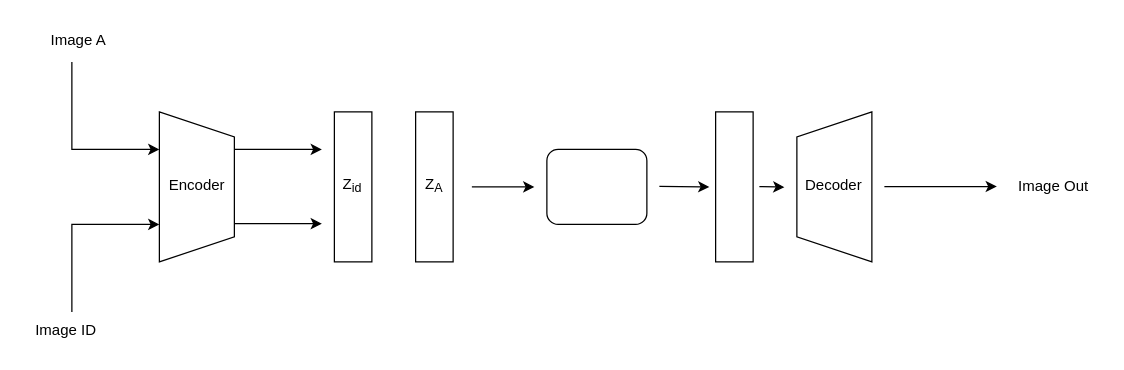
This 1124x370 diagram has some shape labels left out. The shapes that lost their labels are listed below. From the top down, each one's box as (x1, y1, x2, y2) in pixels, then its label:
(546, 148, 647, 224): Unet
(714, 111, 753, 262): Z out
